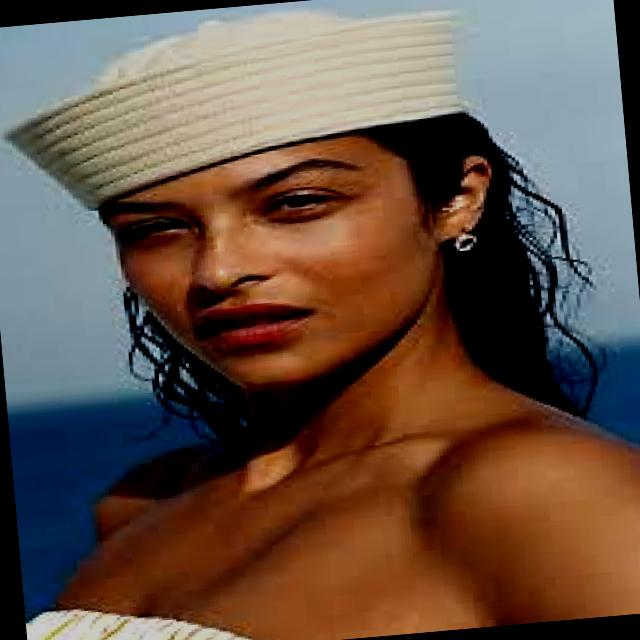hat: (8, 10, 465, 208)
